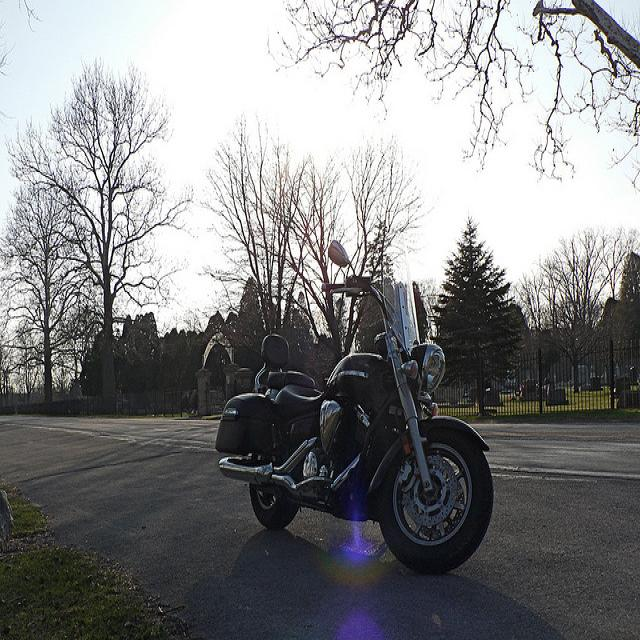motor: (217, 242, 494, 575)
